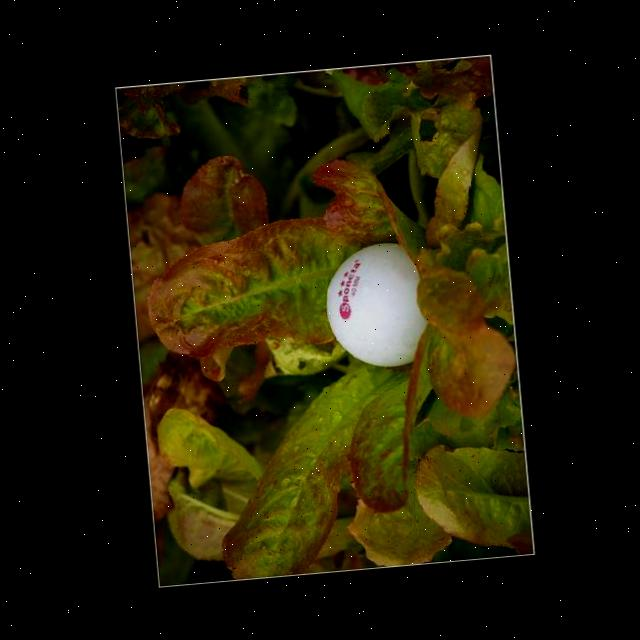ping-pong-ball: (319, 236, 446, 374)
